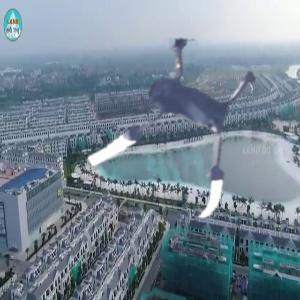drone: (71, 14, 284, 227)
